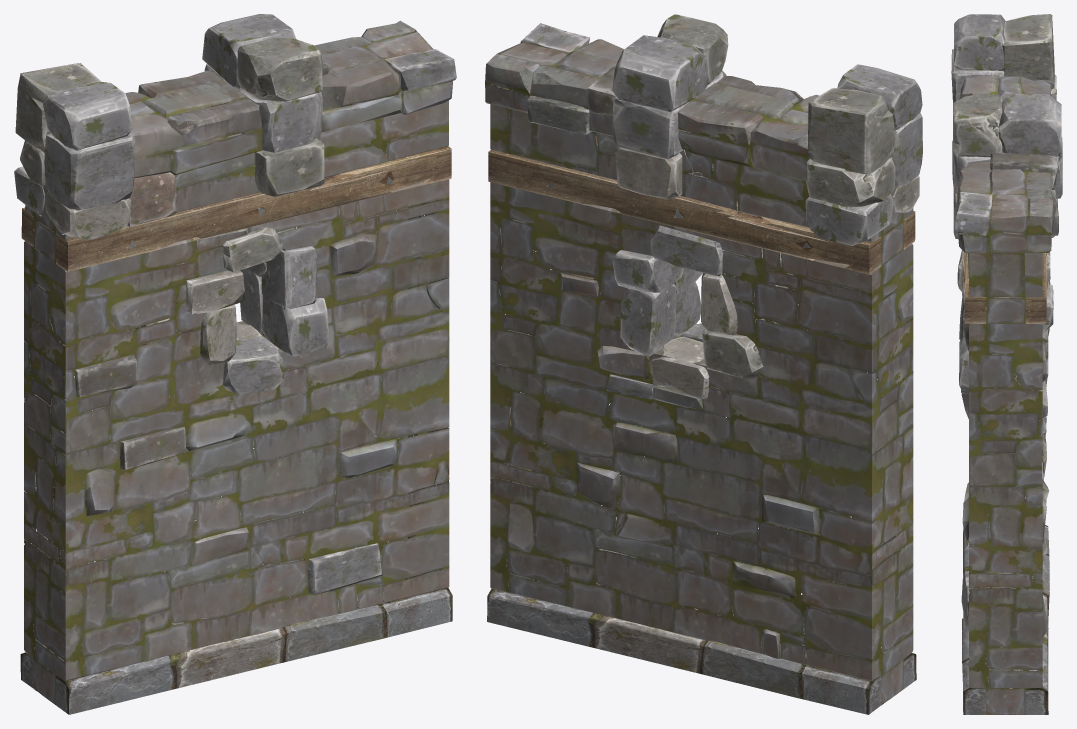
The picture shows the model from 3 angles, left to right: view 1: azimuth 30°, elevation 25°; view 2: azimuth 150°, elevation 25°; view 3: azimuth 270°, elevation 25°; orthographic projection. The views are drawn at different scales.
Visible parts, largest first — view 1: SM_Castle_Wall_4x6_01_v3_LOD0; view 2: SM_Castle_Wall_4x6_01_v3_LOD0; view 3: SM_Castle_Wall_4x6_01_v3_LOD0.
Boxes of the visible parts, x1,y1,x2,y2 form: SM_Castle_Wall_4x6_01_v3_LOD0: (14,14,456,714); SM_Castle_Wall_4x6_01_v3_LOD0: (485,14,922,714); SM_Castle_Wall_4x6_01_v3_LOD0: (951,14,1062,714).
Size of the model in its own units: 4.04 by 6.05 by 1.13.
Materials: 6 (6 with a texture image).
